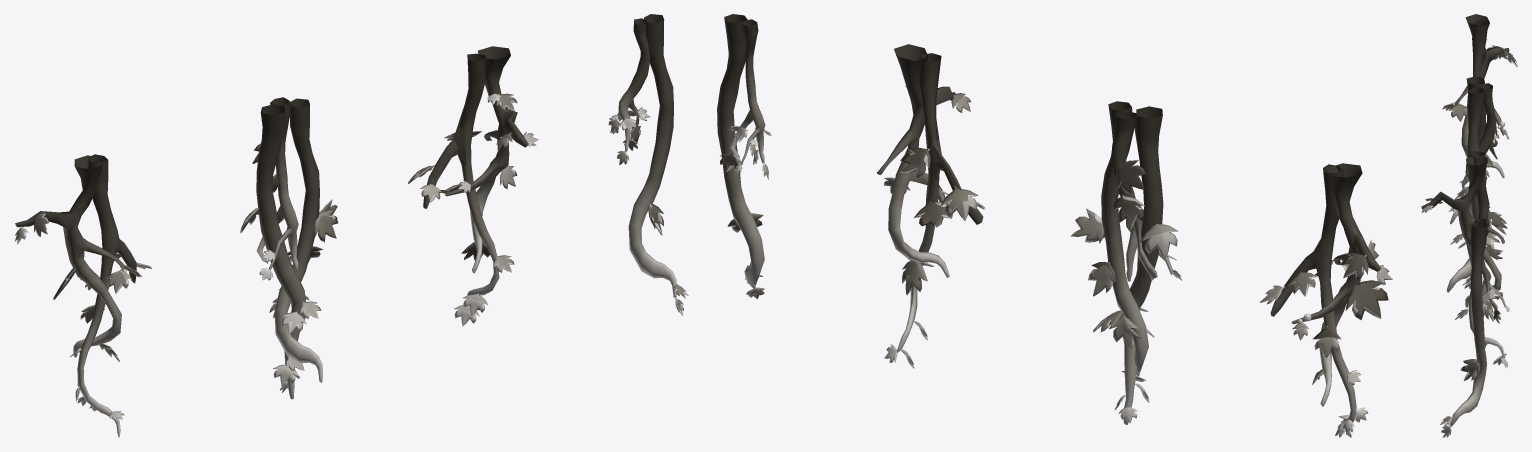
The model's file is M_Vines_02.fbx.
The picture shows the model from 3 angles, left to right: view 1: azimuth 30°, elevation 25°; view 2: azimuth 150°, elevation 25°; view 3: azimuth 270°, elevation 25°; orthographic projection. The views are drawn at different scales.
Visible parts, largest first — view 1: M_Root_VinesWithLeaves_03, M_Root_VinesWithLeaves_04, M_Root_VinesWithLeaves_02, M_Root_VinesWithLeaves_01, M_Root_Vines_Leaves_02, M_Root_Vines_Leaves_03, M_Root_Vines_Leaves_04, M_Root_Vines_Leaves_01; view 2: M_Root_VinesWithLeaves_03, M_Root_VinesWithLeaves_02, M_Root_VinesWithLeaves_04, M_Root_VinesWithLeaves_01, M_Root_Vines_Leaves_03, M_Root_Vines_Leaves_04, M_Root_Vines_Leaves_02, M_Root_Vines_Leaves_01; view 3: M_Root_VinesWithLeaves_01, M_Root_VinesWithLeaves_02, M_Root_VinesWithLeaves_03, M_Root_VinesWithLeaves_04, M_Root_Vines_Leaves_02, M_Root_Vines_Leaves_01, M_Root_Vines_Leaves_04, M_Root_Vines_Leaves_03.
Boxes of the visible parts, box(x1,y1,x2,y2) form: M_Root_VinesWithLeaves_03: box(256, 97, 322, 399); M_Root_VinesWithLeaves_04: box(15, 154, 136, 437); M_Root_VinesWithLeaves_02: box(423, 46, 528, 299); M_Root_VinesWithLeaves_01: box(614, 14, 676, 298); M_Root_Vines_Leaves_02: box(408, 93, 538, 326); M_Root_Vines_Leaves_03: box(240, 143, 338, 392); M_Root_Vines_Leaves_04: box(14, 213, 151, 420); M_Root_Vines_Leaves_01: box(608, 107, 688, 315); M_Root_VinesWithLeaves_03: box(1101, 101, 1173, 424); M_Root_VinesWithLeaves_02: box(877, 44, 983, 352); M_Root_VinesWithLeaves_04: box(1270, 163, 1381, 437); M_Root_VinesWithLeaves_01: box(717, 14, 765, 289); M_Root_Vines_Leaves_03: box(1070, 160, 1181, 422); M_Root_Vines_Leaves_04: box(1260, 240, 1392, 437); M_Root_Vines_Leaves_02: box(884, 86, 985, 368); M_Root_Vines_Leaves_01: box(720, 126, 771, 298); M_Root_VinesWithLeaves_01: box(1450, 218, 1505, 426); M_Root_VinesWithLeaves_02: box(1421, 151, 1505, 358); M_Root_VinesWithLeaves_03: box(1446, 76, 1496, 292); M_Root_VinesWithLeaves_04: box(1450, 14, 1509, 224); M_Root_Vines_Leaves_02: box(1421, 186, 1507, 367); M_Root_Vines_Leaves_01: box(1440, 288, 1509, 437); M_Root_Vines_Leaves_04: box(1442, 45, 1517, 211); M_Root_Vines_Leaves_03: box(1450, 125, 1499, 289).
Bounding box in the file's own units: 860 × 381 × 149.
